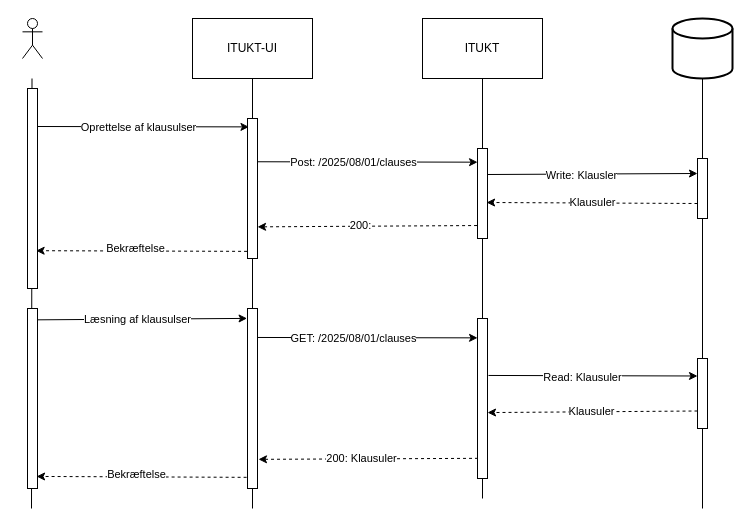
This 751x527 diagram has some shape labels left out. The shapes that lost their labels are listed below. From the top down, each one's box as (x1, y1, x2, y2) in pixels, then its label:
(22, 18, 42, 58): Læge
(671, 17, 733, 79): ITUKT-DB
